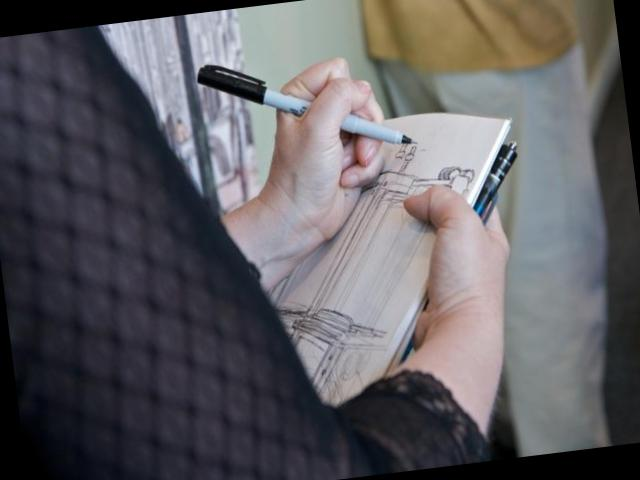PEN: (179, 50, 424, 166), (463, 135, 530, 228)
